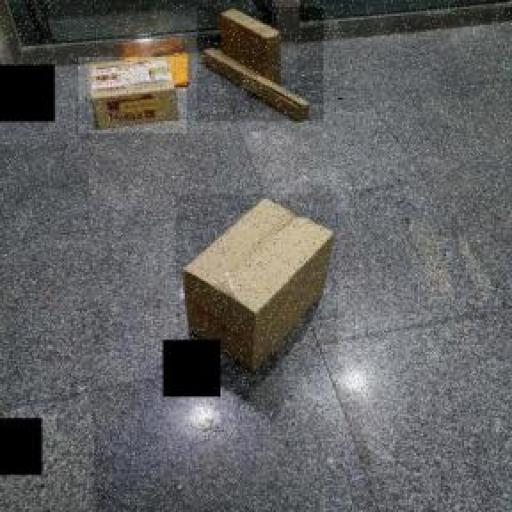box: (176, 194, 338, 375), (198, 6, 324, 122), (78, 57, 187, 133)
